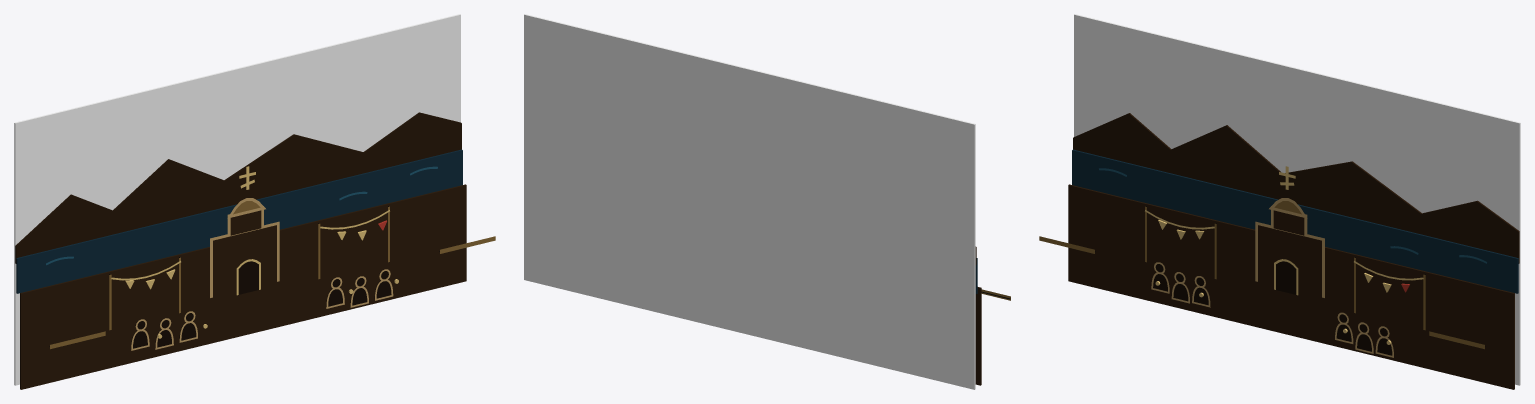
Rendered from loc-dvor-obiteli-prazdnik.glb.
The picture shows the model from 3 angles, left to right: view 1: azimuth 30°, elevation 25°; view 2: azimuth 150°, elevation 25°; view 3: azimuth 330°, elevation 25°; orthographic projection.
Parts seen in each view (by area): view 1: loc-dvor-obiteli-prazdnik; view 2: loc-dvor-obiteli-prazdnik; view 3: loc-dvor-obiteli-prazdnik.
Boxes of the visible parts, left/top/right/bottom form: loc-dvor-obiteli-prazdnik: left=14, top=14, right=495, bottom=389; loc-dvor-obiteli-prazdnik: left=524, top=14, right=1010, bottom=389; loc-dvor-obiteli-prazdnik: left=1039, top=14, right=1520, bottom=389.
Bounding box in the file's own units: 5.33 × 3 × 0.741.
